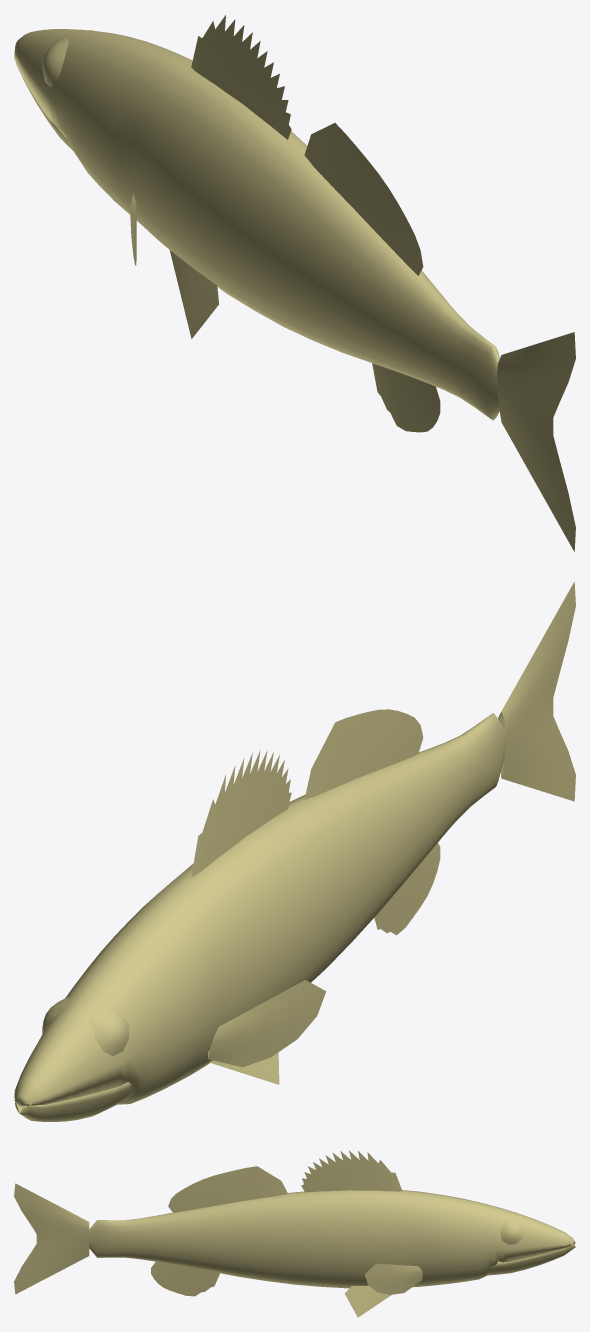
The model's file is walleye_lo.glb.
3 views of the same model, one above another, from view 1: azimuth 30°, elevation 25°; view 2: azimuth 150°, elevation 25°; view 3: azimuth 270°, elevation 25° (orthographic). The views are drawn at different scales.
Visible parts, largest first — view 1: walleye_lo; view 2: walleye_lo; view 3: walleye_lo.
Boxes of the visible parts, box(x1,y1,x2,y2) form: walleye_lo: box(14, 15, 575, 551); walleye_lo: box(14, 581, 575, 1121); walleye_lo: box(14, 1150, 575, 1317).
Size of the model in its own units: 0.14 by 0.2129 by 0.6913.
